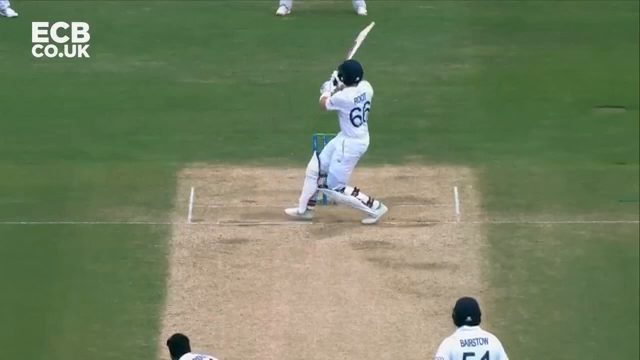batsman: (284, 20, 391, 227)
